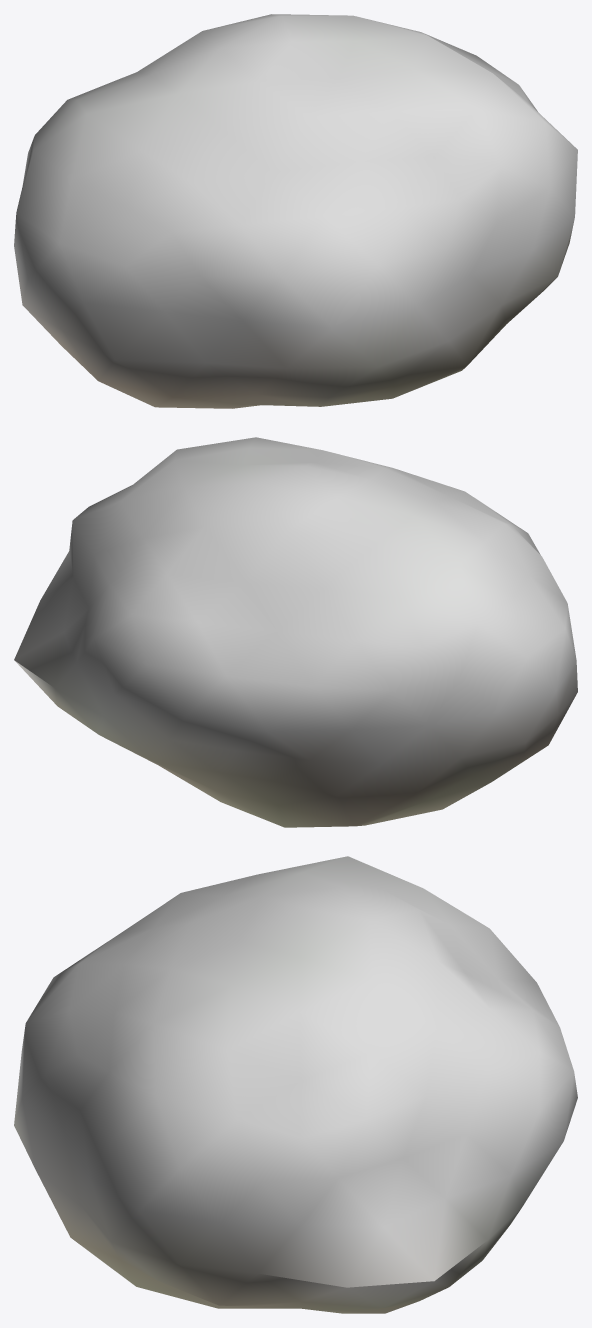
Rendered from boulder_big_v3.glb.
3 renders of one model, top to bottom at view 1: azimuth 30°, elevation 25°; view 2: azimuth 150°, elevation 25°; view 3: azimuth 270°, elevation 25°, orthographic. The views are drawn at different scales.
Parts seen in each view (by area): view 1: Boulder; view 2: Boulder; view 3: Boulder.
Boxes of the visible parts, x1,y1,x2,y2 form: Boulder: [14, 14, 577, 408]; Boulder: [14, 437, 577, 827]; Boulder: [14, 856, 577, 1313].
Bounding box in the file's own units: 2.21 × 1.43 × 1.89.
